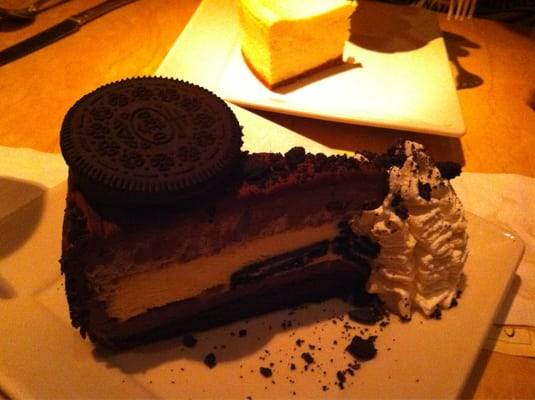burger: (426, 0, 479, 20)
sandwich: (0, 0, 139, 68)
